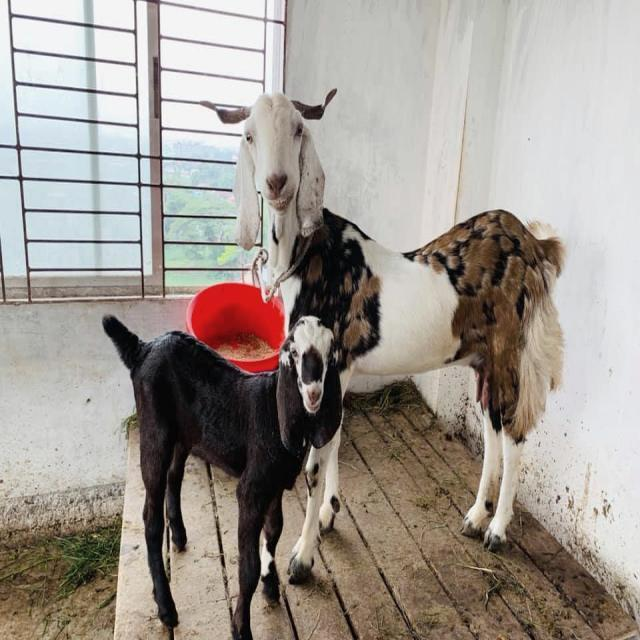Goat: (197, 85, 566, 583), (101, 311, 337, 638)
